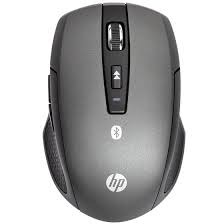mouse: (34, 1, 189, 223)
